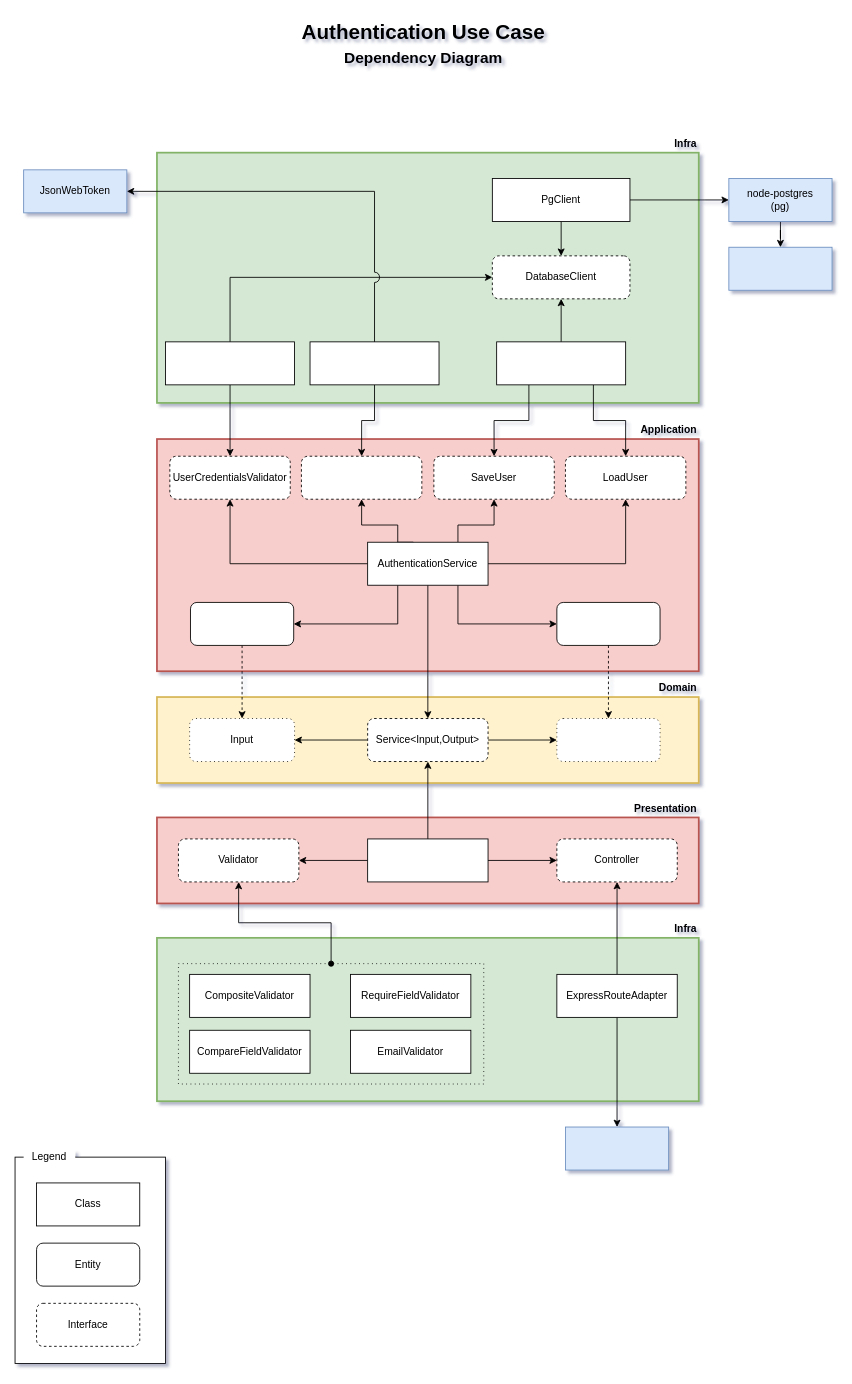
Some shapes in this 852 by 1384 pixel diagram are drawn without their labels. Here are the shapes that lost their labels. From the top down, the centre of each, then its label:
point 780,268: PostgreSQL
point 230,363: DatabaseUserCredentials
point 374,363: JwtAdapter
point 561,363: UserAccountRepository
point 361,477: TokenEncrypter
point 242,623: AthenticationInput
point 608,623: AthenticationToken
point 608,740: Output
point 427,860: LoginController
point 617,1148: Express
